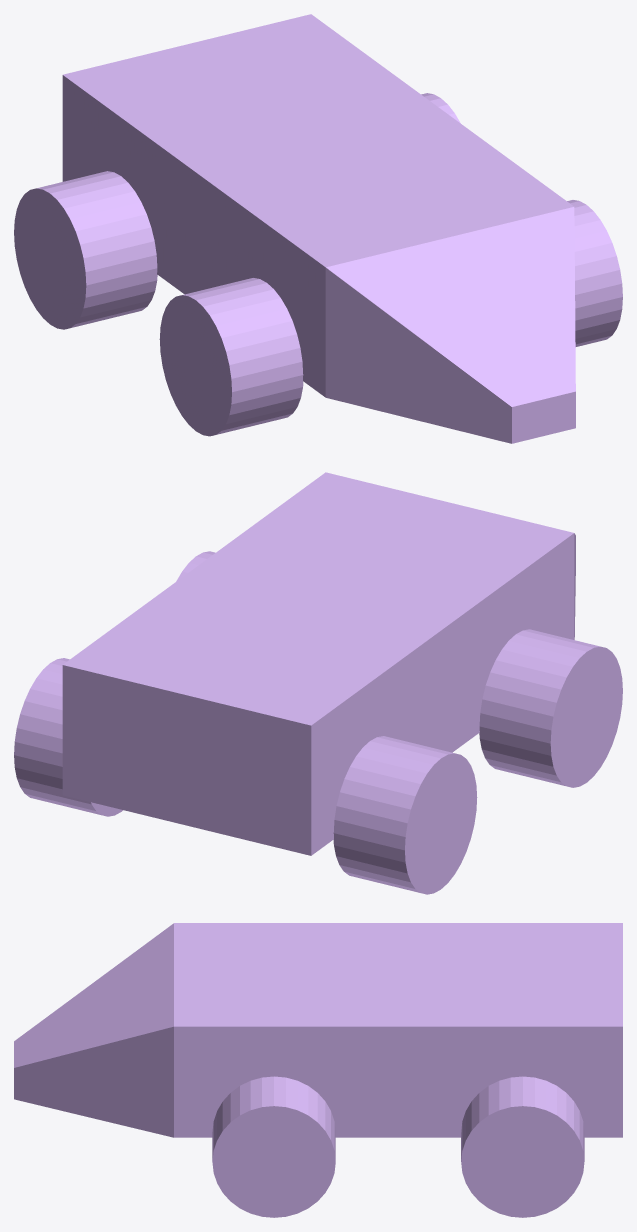
The model's file is car2.dae.
The picture shows the model from 3 angles, top to bottom: view 1: azimuth 30°, elevation 25°; view 2: azimuth 150°, elevation 25°; view 3: azimuth 270°, elevation 25°; orthographic projection. The views are drawn at different scales.
Visible parts, largest first — view 1: Cube; view 2: Cube; view 3: Cube.
Part boxes in pixels (left/top/right/bottom): Cube: left=14, top=14, right=622, bottom=443; Cube: left=14, top=472, right=622, bottom=894; Cube: left=14, top=923, right=622, bottom=1217.
Size of the model in its own units: 3.14 by 4.97 by 1.46.
